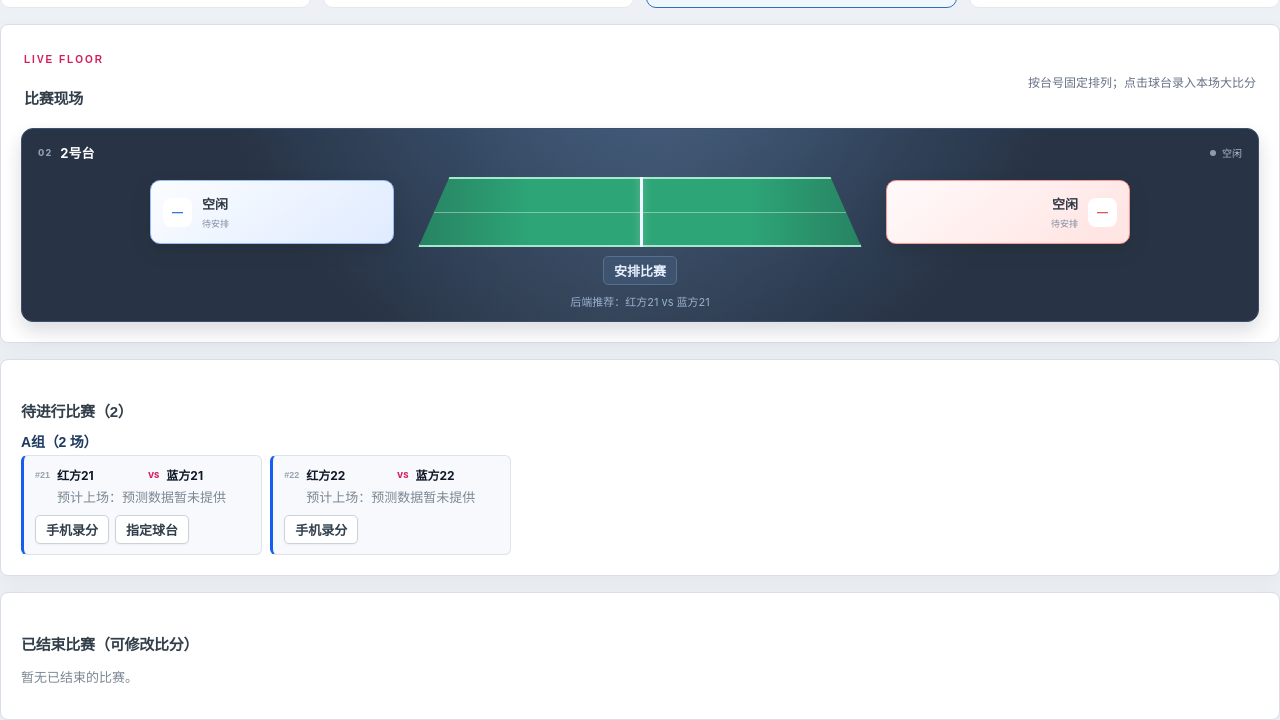
Test: 现场问题 A：待进行比赛 → 指定球台（Match → Table） › 球台被其他终端抢占（409）：刷新现场状态并提示重新选择，且不重发第二次安排
(page scrolled)
Click the button "指定球台": (152, 530) top-left (115, 515), bottom-right (189, 544)
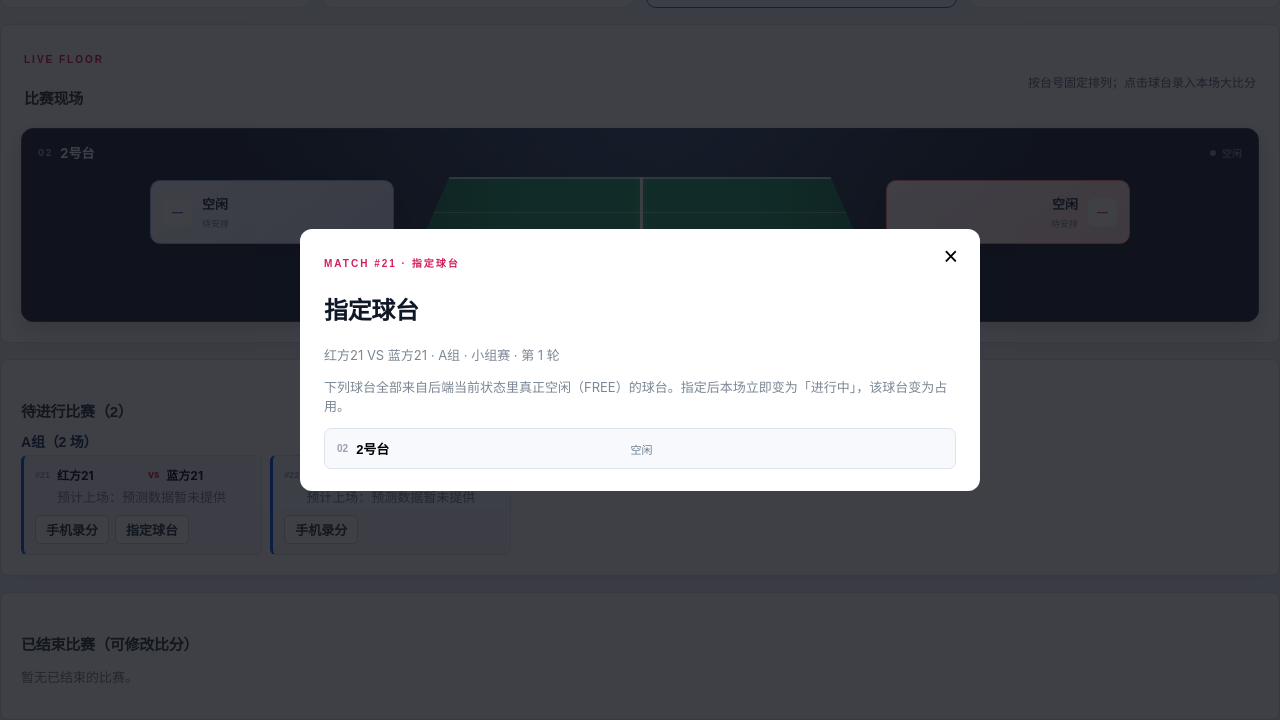
Click the button "02 2号台 空闲": (640, 449) top-left (324, 428), bottom-right (956, 469)
(page scrolled)
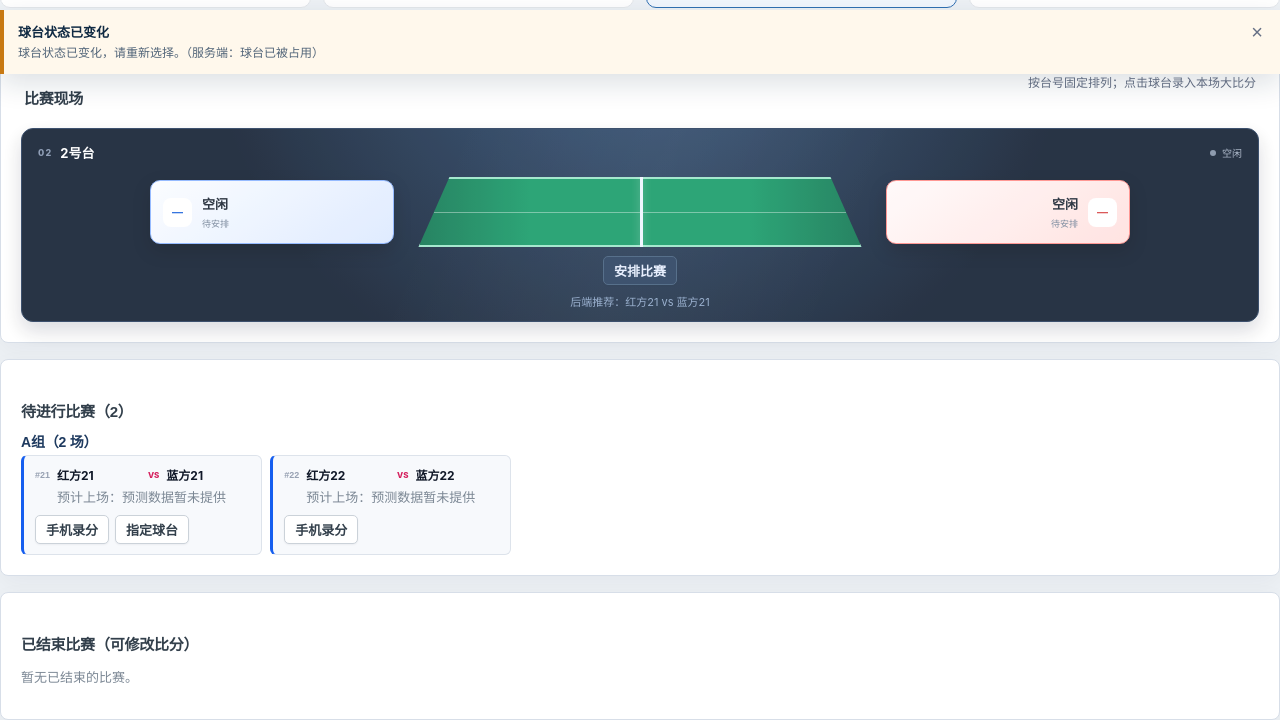
Result: the text "球台状态已变化" is shown at top-left (18, 24), bottom-right (109, 40)
Result: the text "球台状态已变化，请重新选择。（服务端：球台已被占用）" is shown at top-left (18, 44), bottom-right (324, 62)
